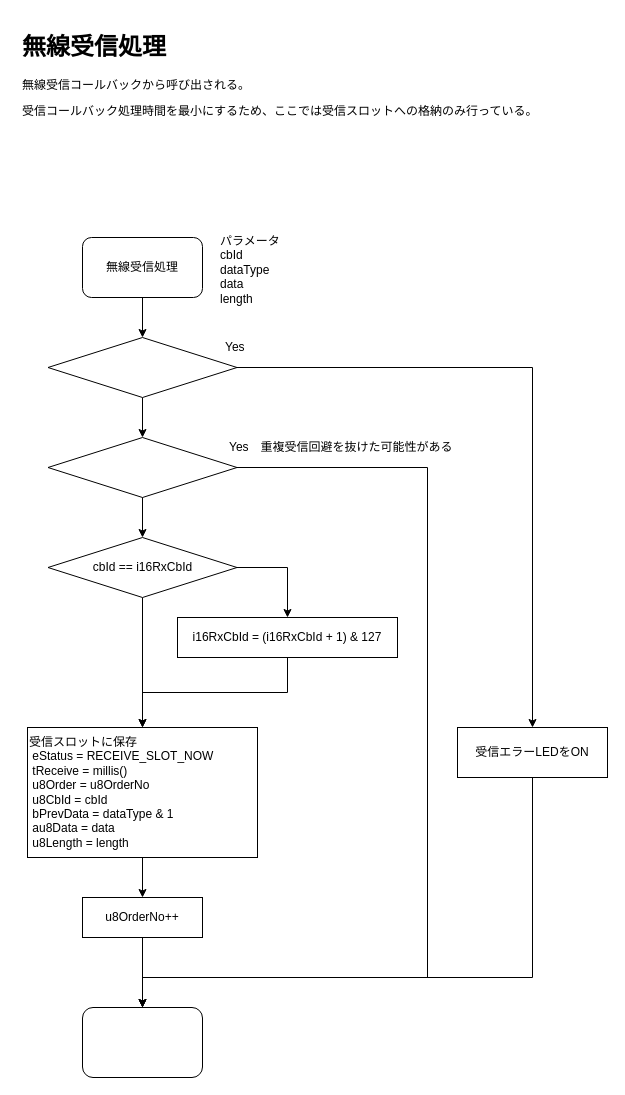
Some shapes in this 625 by 1095 pixel diagram are drawn without their labels. Here are the shapes that lost their labels. From the top down, the centre of each, then its label:
the point at 142,367: 受信スロットに空きが無い
the point at 142,467: cbId < i16RxCbId && cbId >= (i16RxCbId - 3)
the point at 142,1042: 無線受信処理 おわり
